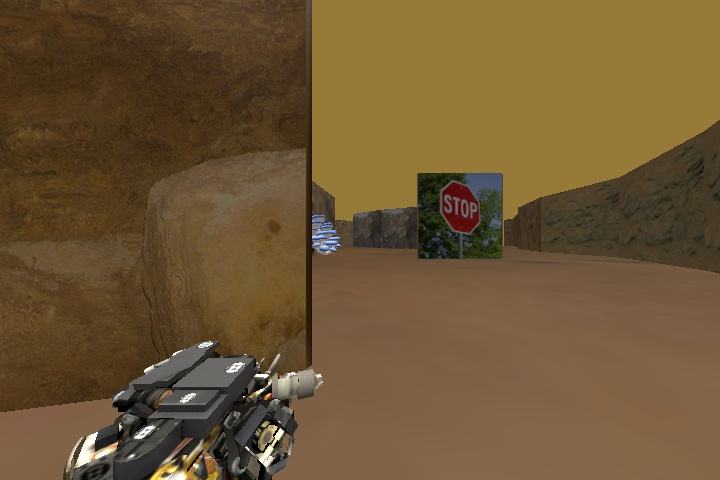mushroom: (310, 210, 342, 254)
sign: (438, 180, 482, 235)
